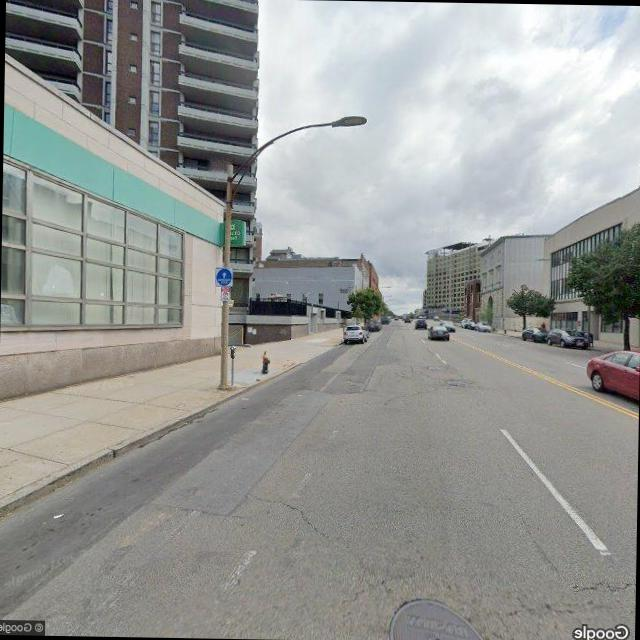crack: (251, 492, 336, 539)
